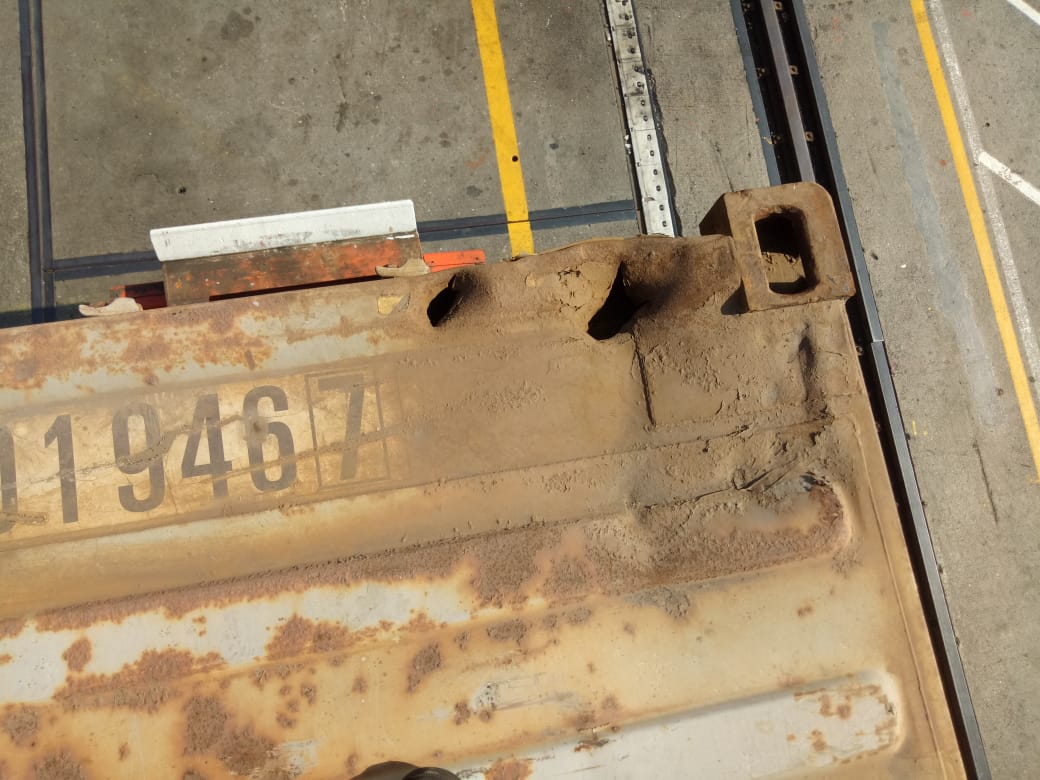hole: (575, 263, 677, 355), (401, 266, 490, 325)
